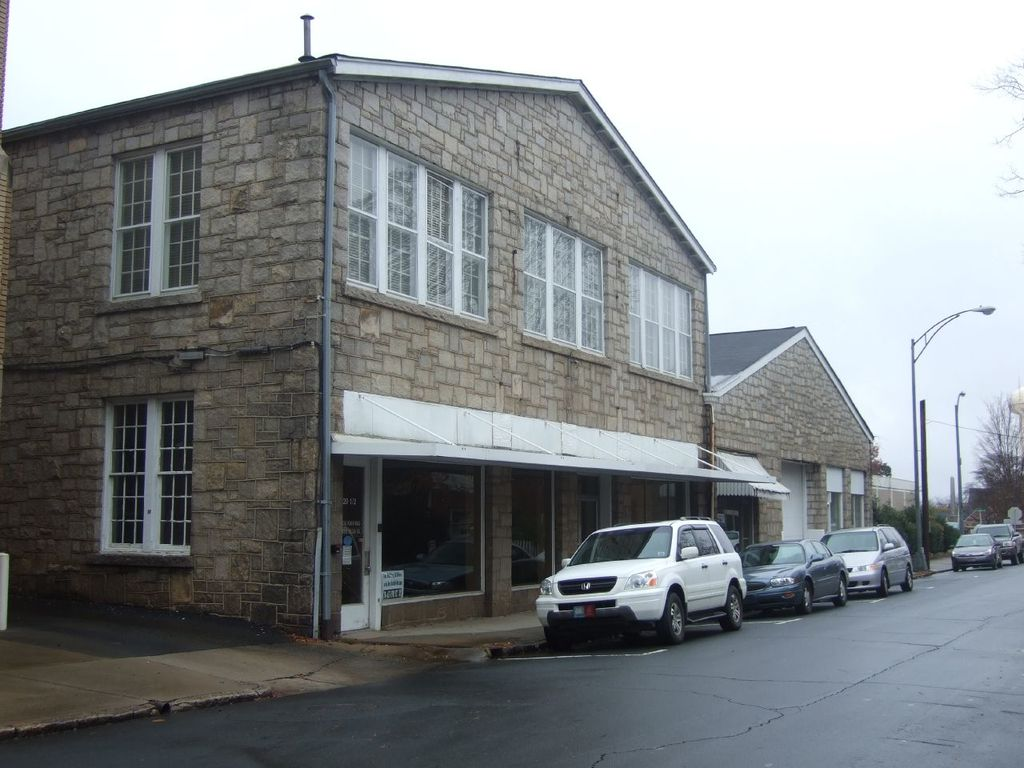Car: (532, 513, 752, 650), (743, 536, 847, 611), (830, 523, 908, 594), (950, 532, 1004, 570), (978, 522, 1023, 564)
